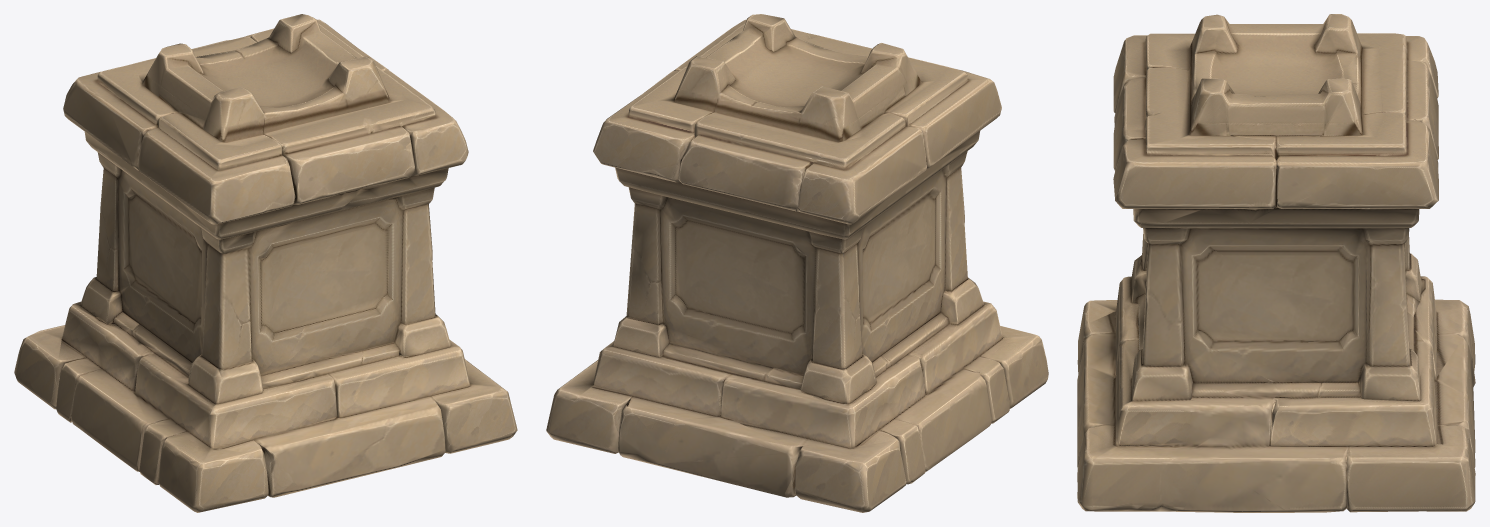
Rendered from shrine_pedestal.glb.
The picture shows the model from 3 angles, left to right: view 1: azimuth 30°, elevation 25°; view 2: azimuth 150°, elevation 25°; view 3: azimuth 270°, elevation 25°; orthographic projection. The views are drawn at different scales.
Size of the model in its own units: 1.92 by 2 by 1.92.
1 material, 1 textured.
